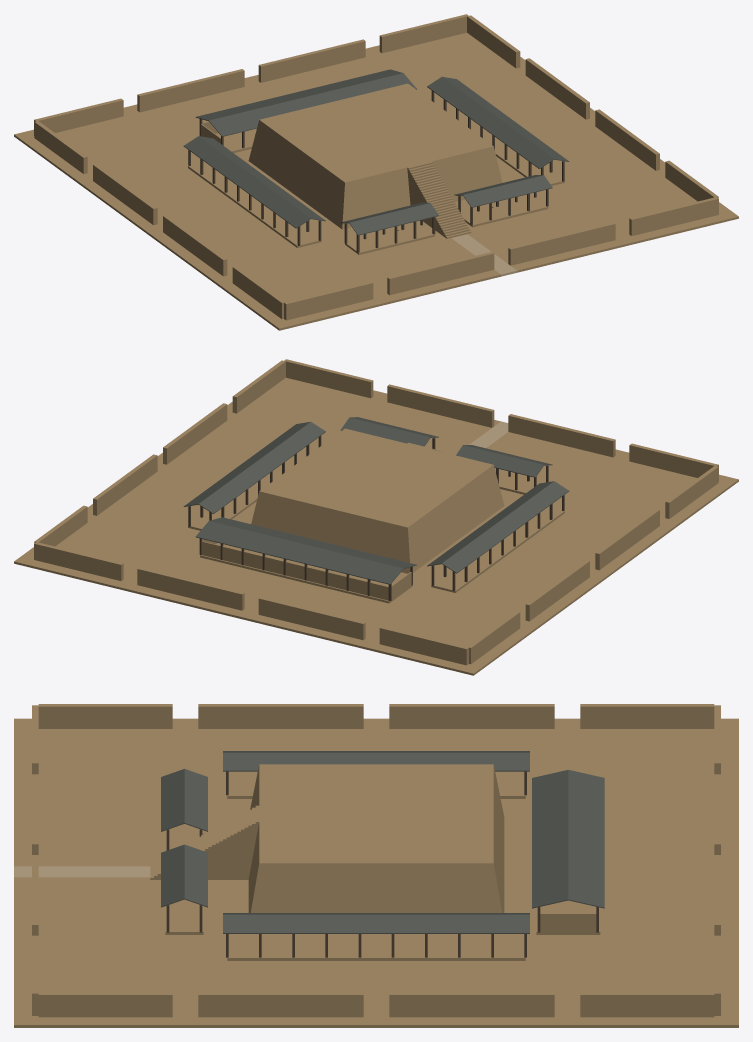
The model's file is lingtai-A-LOD2.glb.
The picture shows the model from 3 angles, top to bottom: view 1: azimuth 30°, elevation 25°; view 2: azimuth 150°, elevation 25°; view 3: azimuth 270°, elevation 25°; orthographic projection. The views are drawn at different scales.
Visible parts, largest first — view 1: lingtai-A-static_earth, lingtai-A-static_tile, lingtai-A-static_timber, lingtai-A-static_path; view 2: lingtai-A-static_earth, lingtai-A-static_tile, lingtai-A-static_timber; view 3: lingtai-A-static_earth, lingtai-A-static_tile, lingtai-A-static_path, lingtai-A-static_timber.
Part boxes in pixels (box(x1,y1,x2,y2)): lingtai-A-static_earth: box(14, 14, 738, 330); lingtai-A-static_tile: box(183, 69, 569, 235); lingtai-A-static_timber: box(188, 91, 564, 252); lingtai-A-static_path: box(451, 234, 517, 276); lingtai-A-static_earth: box(14, 359, 738, 675); lingtai-A-static_tile: box(183, 417, 569, 584); lingtai-A-static_timber: box(188, 436, 564, 601); lingtai-A-static_earth: box(14, 704, 738, 1027); lingtai-A-static_tile: box(161, 751, 604, 933); lingtai-A-static_path: box(14, 866, 150, 877); lingtai-A-static_timber: box(166, 771, 598, 957).
Size of the model in its own units: 68 by 6.3 by 68.
